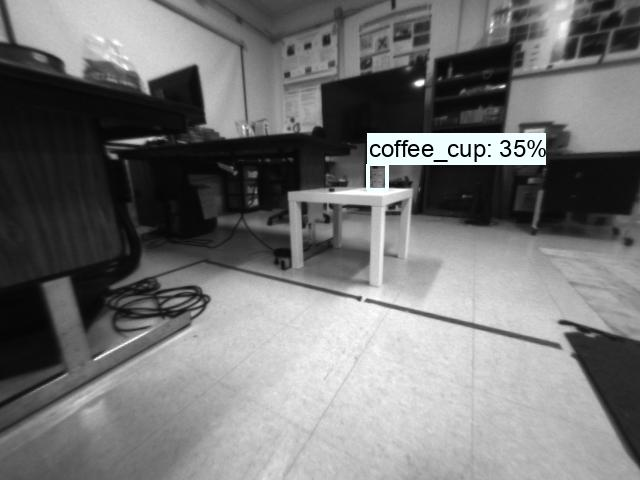coffee_cup: (367, 165, 386, 191)
